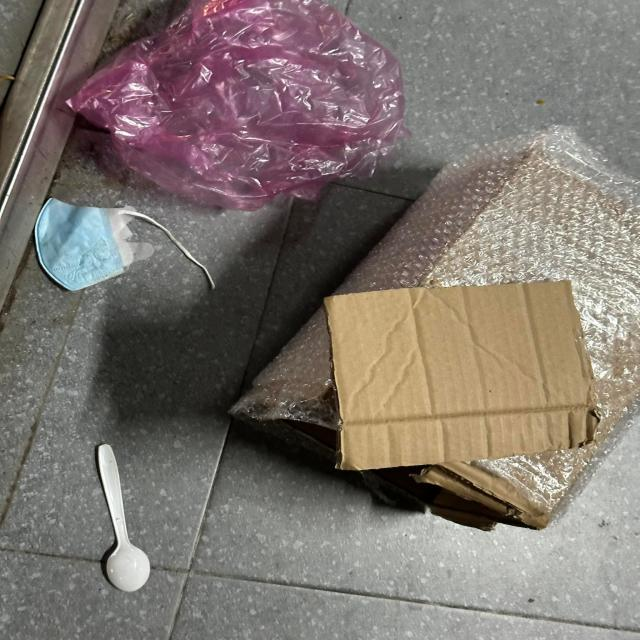bag: (65, 0, 405, 213)
cardboard box: (228, 130, 640, 531)
mask: (36, 198, 218, 292)
plastic utensil: (97, 443, 151, 592)
